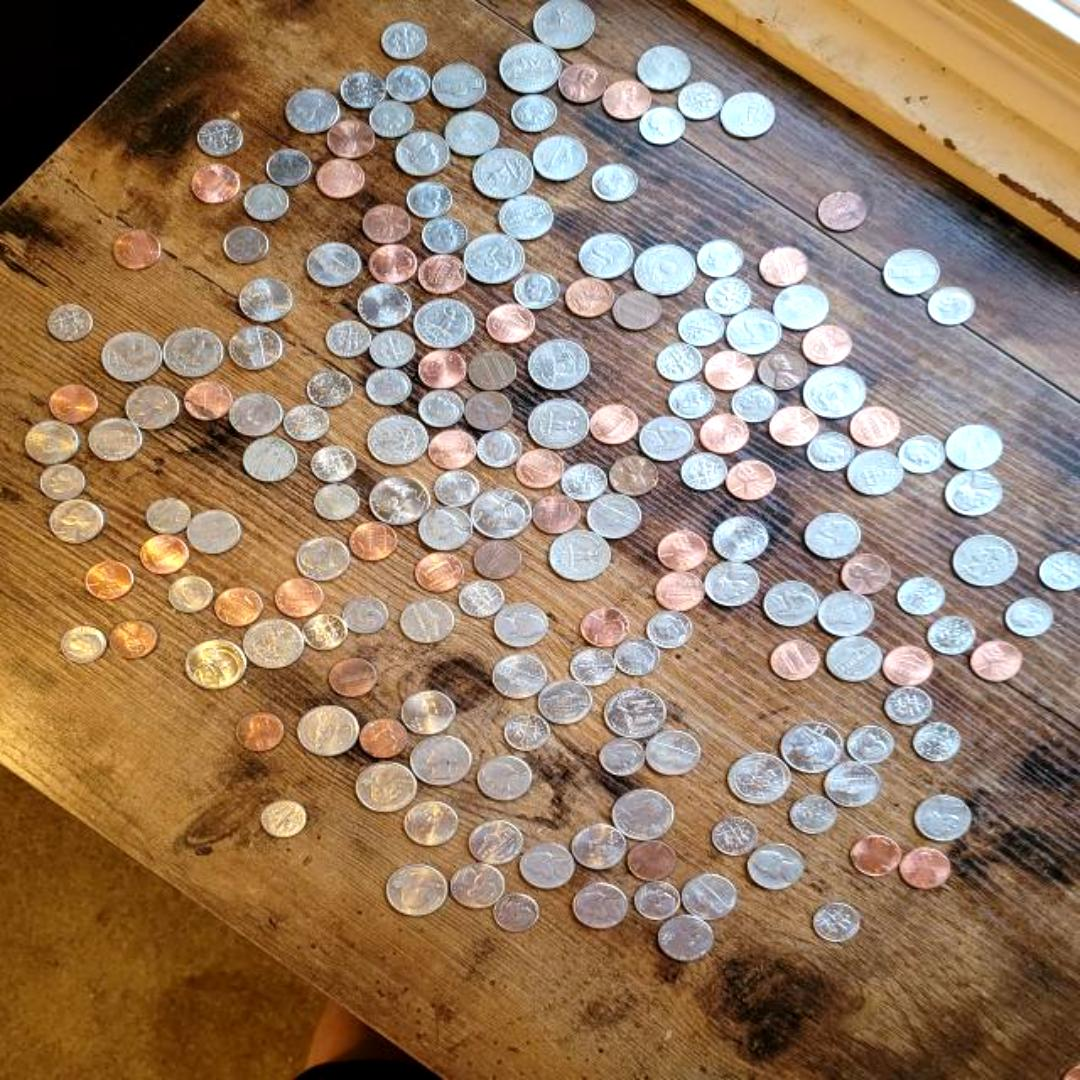Dime: (811, 902, 861, 942), (912, 723, 962, 761), (896, 577, 946, 615), (929, 286, 976, 326), (808, 432, 854, 472), (898, 435, 946, 473), (704, 276, 752, 314), (731, 385, 779, 423), (568, 648, 616, 686), (884, 686, 932, 724), (668, 381, 716, 419), (1005, 598, 1053, 636), (61, 626, 108, 664), (929, 616, 976, 654), (282, 403, 328, 441), (308, 370, 354, 408), (682, 452, 728, 490), (656, 343, 702, 381), (678, 308, 724, 346), (698, 240, 744, 278), (510, 94, 556, 132), (640, 107, 686, 145), (614, 637, 660, 675), (846, 725, 892, 763), (712, 818, 758, 856), (634, 881, 680, 919), (600, 738, 646, 776), (790, 796, 836, 834), (315, 483, 360, 521), (406, 182, 451, 220), (243, 183, 288, 221), (197, 119, 242, 157), (458, 580, 503, 618), (476, 431, 522, 468), (514, 272, 560, 309), (326, 319, 370, 357), (562, 463, 606, 501), (592, 163, 636, 201), (678, 82, 722, 120), (382, 21, 426, 59), (422, 216, 466, 254), (494, 894, 538, 932), (647, 610, 692, 647), (146, 498, 192, 534), (40, 465, 84, 502), (370, 330, 414, 367), (366, 369, 410, 406), (340, 71, 384, 108), (262, 800, 306, 837), (223, 228, 268, 264), (344, 596, 386, 634), (170, 575, 212, 613), (420, 390, 464, 426), (434, 470, 478, 506), (386, 66, 430, 102), (504, 714, 548, 750), (268, 150, 311, 186), (48, 305, 92, 340), (311, 446, 356, 480), (1040, 552, 1080, 590), (304, 614, 346, 650), (370, 102, 414, 136)
Nickel: (945, 424, 1004, 472), (946, 470, 1004, 518), (804, 512, 862, 560), (882, 249, 940, 297), (238, 276, 296, 324), (748, 842, 805, 890), (711, 516, 770, 562), (718, 92, 776, 138), (915, 794, 970, 842), (818, 590, 873, 638), (185, 508, 239, 556), (579, 232, 633, 280), (774, 284, 828, 332), (848, 448, 902, 496), (520, 842, 574, 890), (451, 862, 505, 910), (659, 914, 714, 961), (492, 654, 548, 700), (430, 64, 486, 110), (636, 44, 690, 91), (645, 730, 700, 776), (532, 136, 587, 182), (705, 560, 760, 606), (681, 874, 735, 920), (824, 762, 878, 808), (826, 636, 880, 682), (296, 536, 350, 582), (640, 416, 694, 462), (306, 242, 360, 288), (286, 88, 340, 134), (572, 824, 626, 870), (574, 882, 628, 928), (418, 506, 474, 550), (242, 438, 298, 482), (400, 690, 458, 732), (477, 755, 531, 800), (764, 581, 818, 626), (537, 680, 591, 725), (396, 132, 450, 177), (468, 821, 524, 864), (587, 494, 641, 538), (24, 420, 78, 464), (88, 418, 142, 462), (229, 326, 283, 370), (445, 112, 499, 156), (404, 802, 458, 846), (726, 310, 780, 354), (50, 499, 104, 542), (499, 197, 553, 240), (229, 392, 283, 435), (127, 386, 179, 430), (401, 600, 455, 642), (357, 284, 411, 326), (494, 604, 548, 646)
Penny: (849, 404, 901, 448), (850, 835, 904, 877), (697, 413, 751, 455), (139, 532, 189, 576), (970, 641, 1022, 683), (902, 846, 950, 890), (724, 459, 774, 501), (758, 349, 808, 391), (588, 405, 640, 445), (843, 552, 891, 595), (818, 188, 864, 232), (627, 840, 675, 882), (610, 454, 658, 496), (417, 252, 465, 294), (802, 324, 850, 366), (883, 647, 933, 687), (474, 539, 524, 579), (485, 304, 535, 344), (191, 162, 241, 202), (416, 552, 462, 594), (329, 658, 377, 698), (579, 608, 627, 648), (769, 640, 817, 680), (658, 530, 706, 570), (430, 430, 478, 470), (531, 492, 579, 532), (348, 521, 396, 561), (275, 577, 323, 617), (182, 381, 230, 421), (317, 158, 365, 198), (362, 204, 410, 244), (368, 244, 416, 284), (612, 291, 660, 331), (705, 350, 753, 390), (769, 407, 817, 447), (605, 80, 653, 120), (359, 720, 409, 758), (516, 450, 566, 488), (112, 230, 159, 270), (760, 247, 806, 287), (560, 63, 606, 103), (470, 351, 516, 391), (236, 713, 284, 751), (654, 572, 702, 610), (213, 587, 261, 625), (49, 385, 97, 423), (566, 279, 614, 317), (110, 619, 156, 657), (418, 351, 464, 389), (86, 561, 132, 599), (466, 391, 512, 429), (328, 119, 372, 157)
Quarter: (182, 638, 248, 690), (953, 535, 1018, 587), (803, 366, 865, 420), (634, 244, 696, 296), (604, 687, 666, 739), (728, 753, 790, 805), (472, 148, 534, 200), (780, 723, 844, 773), (297, 706, 357, 758), (528, 340, 590, 390), (500, 43, 562, 93), (549, 530, 611, 580), (612, 789, 674, 839), (385, 865, 447, 915), (528, 399, 590, 449), (413, 299, 475, 349), (532, 0, 596, 48), (369, 475, 429, 525), (243, 619, 303, 669), (410, 736, 470, 786), (356, 762, 416, 812), (102, 332, 162, 382), (163, 327, 223, 377), (367, 415, 427, 465), (464, 233, 524, 283), (471, 489, 531, 537)
